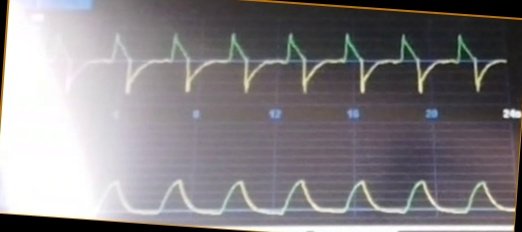Normal Flow: (42, 23, 509, 106)
Normal Volume: (79, 164, 513, 221)
